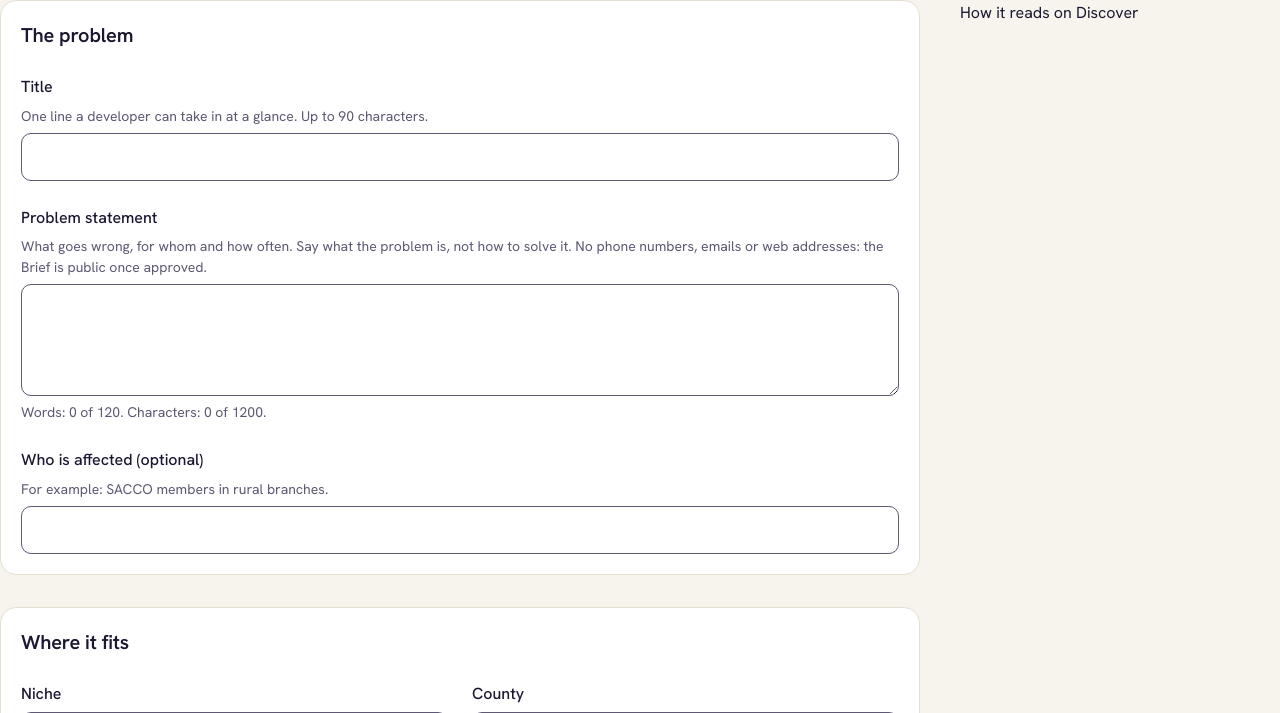
it: BriefPreview › shows the page's own preview first and the live one, fetched on the first edit, after it
Expected: the text "How it reads on Discover" is shown, left=960, top=2, right=1139, bottom=23
Type "Tower sites go dark" into the field labelled "Title" at (460, 157), box left=21, top=133, right=899, bottom=181
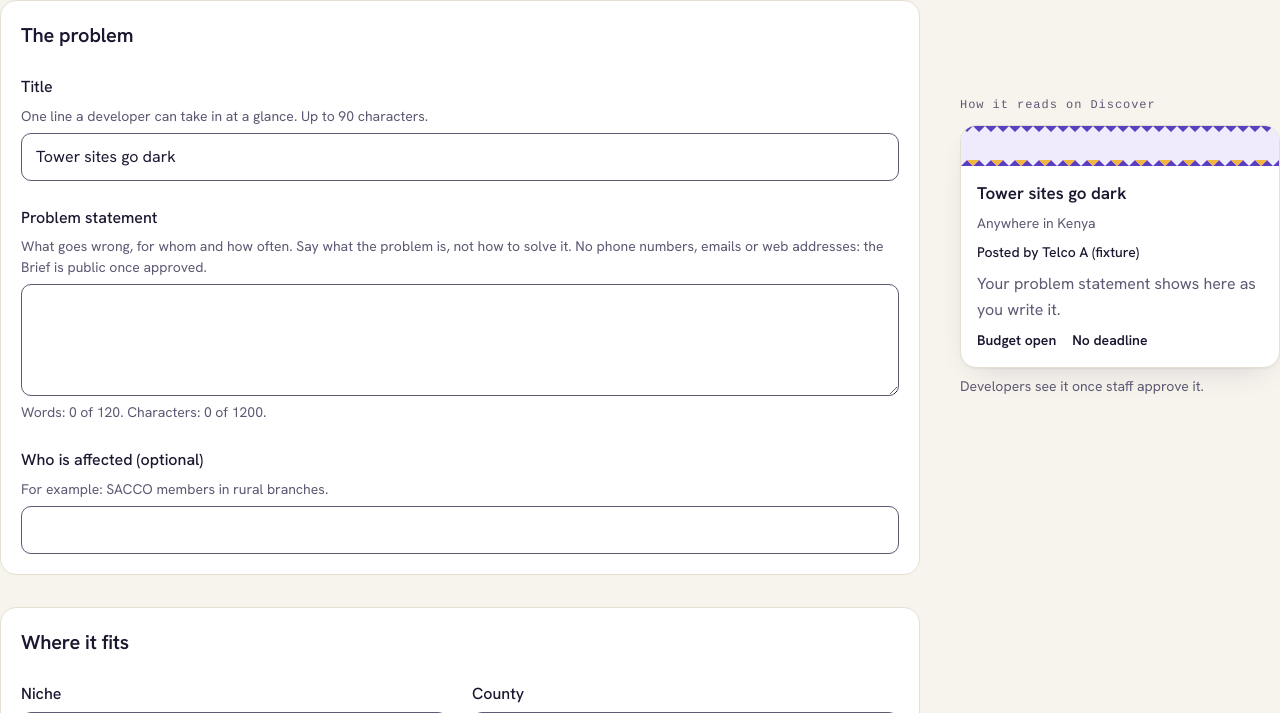
Expected: the text "Tower sites go dark" is shown, left=977, top=182, right=1127, bottom=204
